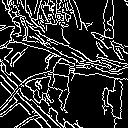cube: (46, 59, 75, 91)
